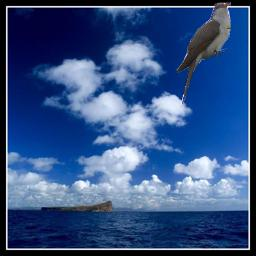Cuckoo: (176, 2, 231, 108)
